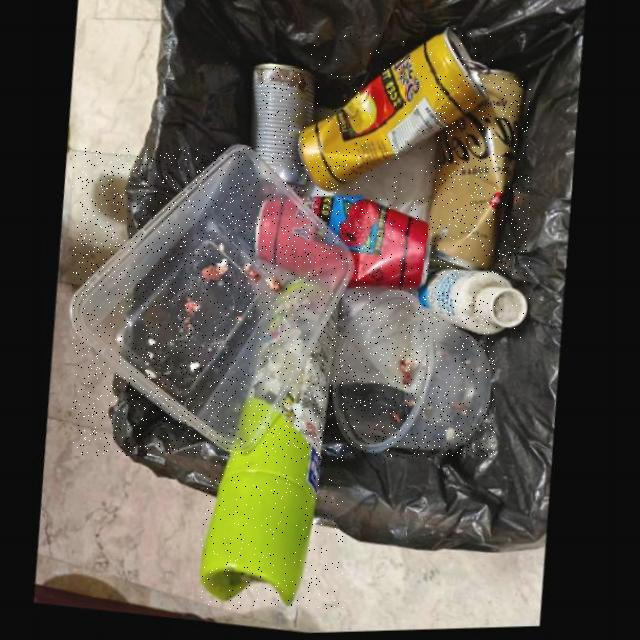metal: (201, 280, 343, 608), (306, 33, 498, 193), (435, 74, 531, 274), (260, 196, 436, 293), (258, 67, 323, 186)
plastic: (73, 148, 360, 456), (336, 292, 495, 458), (423, 273, 533, 338)
